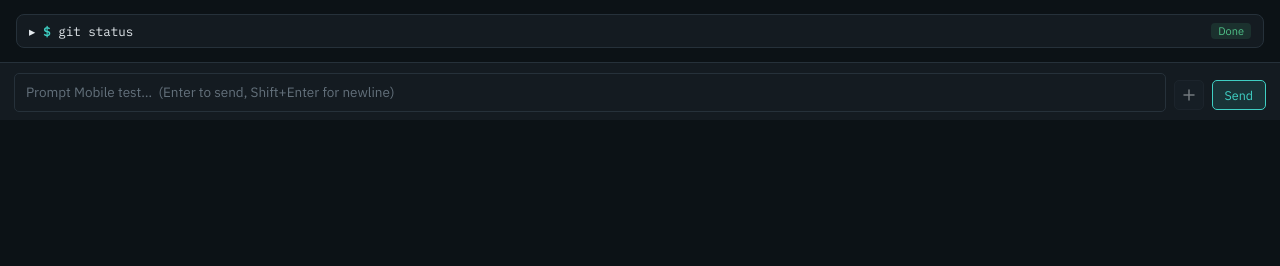
Test: TranscriptPane voice rendering › removes an outer Markdown code fence from execute output
Step 1. Click the element with class "card-head" → (96, 31), box [29,23,1251,39]
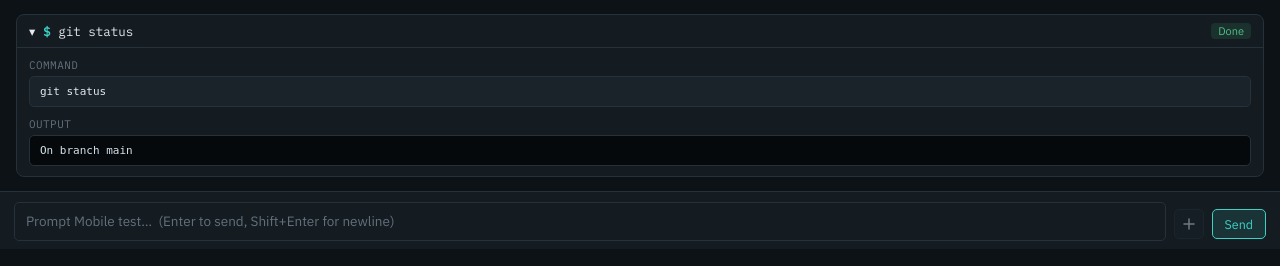
Result: the text with class "tool-terminal-output" reads "On branch main" at [40,144,133,157]
